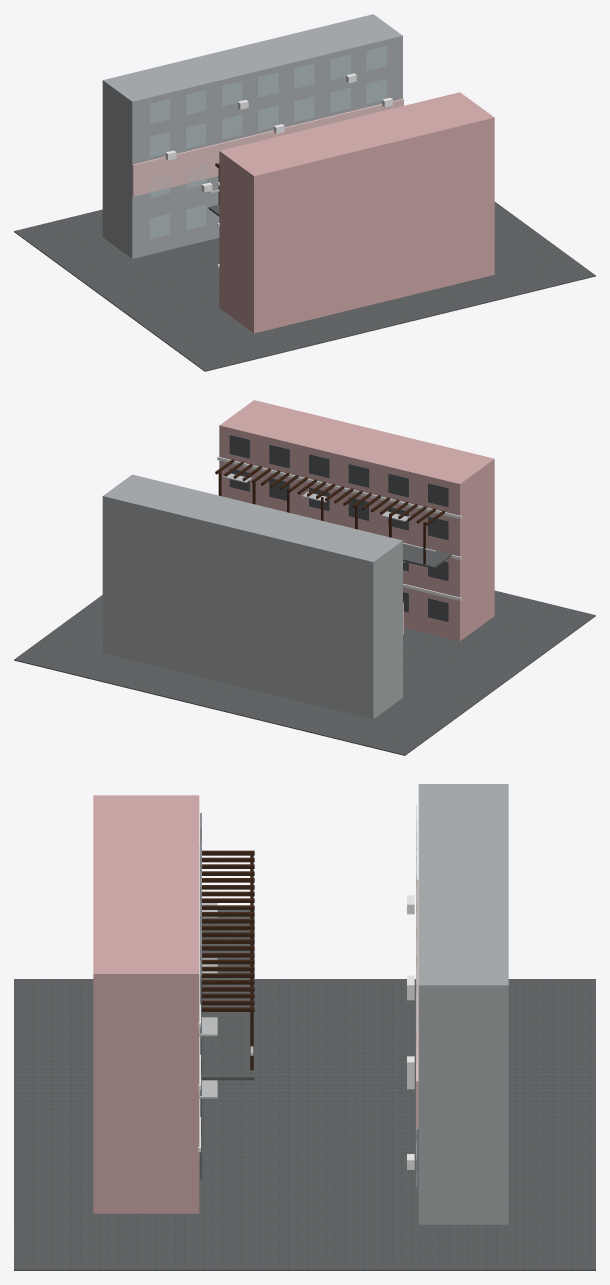
The model's file is exterior_block.glb.
The picture shows the model from 3 angles, top to bottom: view 1: azimuth 30°, elevation 25°; view 2: azimuth 150°, elevation 25°; view 3: azimuth 270°, elevation 25°; orthographic projection. The views are drawn at different scales.
Visible parts, largest first — view 1: Static_Exterior_Pink, Static_Exterior_Gray, Static_Floor_Gray, Cutaway_Window_Glass, Static_Exterior_Pink_Light, Static_White; view 2: Static_Exterior_Gray, Static_Exterior_Pink, Static_Floor_Gray, Cutaway_Display_Dark, Ceiling_Wood_Warm, Static_White, Static_Wood_Dark, Static_Metal_Gray; view 3: Static_Floor_Gray, Static_Exterior_Pink, Static_Exterior_Gray, Ceiling_Wood_Warm, Static_White, Static_Metal_Gray, Static_Exterior_Pink_Light, Cutaway_Display_Dark.
Part boxes in pixels (box(x1,y1,x2,y2)): Static_Exterior_Pink: box(219, 92, 494, 333); Static_Exterior_Gray: box(102, 14, 402, 258); Static_Floor_Gray: box(14, 201, 595, 371); Cutaway_Window_Glass: box(149, 46, 386, 238); Static_Exterior_Pink_Light: box(132, 98, 403, 196); Static_White: box(165, 73, 392, 267); Static_Exterior_Gray: box(102, 474, 402, 719); Static_Exterior_Pink: box(219, 400, 494, 641); Static_Floor_Gray: box(14, 545, 595, 755); Cutaway_Display_Dark: box(229, 434, 448, 621); Ceiling_Wood_Warm: box(215, 459, 444, 525); Static_White: box(217, 456, 461, 600); Static_Wood_Dark: box(218, 472, 425, 564); Static_Metal_Gray: box(222, 473, 435, 562); Static_Floor_Gray: box(14, 910, 595, 1270); Static_Exterior_Pink: box(93, 795, 199, 1213); Static_Exterior_Gray: box(418, 784, 508, 1224); Ceiling_Wood_Warm: box(202, 850, 254, 1011); Static_White: box(198, 842, 414, 1169); Static_Metal_Gray: box(199, 899, 253, 1098); Static_Exterior_Pink_Light: box(416, 880, 418, 1128); Cutaway_Display_Dark: box(200, 813, 201, 1179).
Bounding box in the file's own units: 26 × 10.05 × 22.
10 materials, 3 textured.
